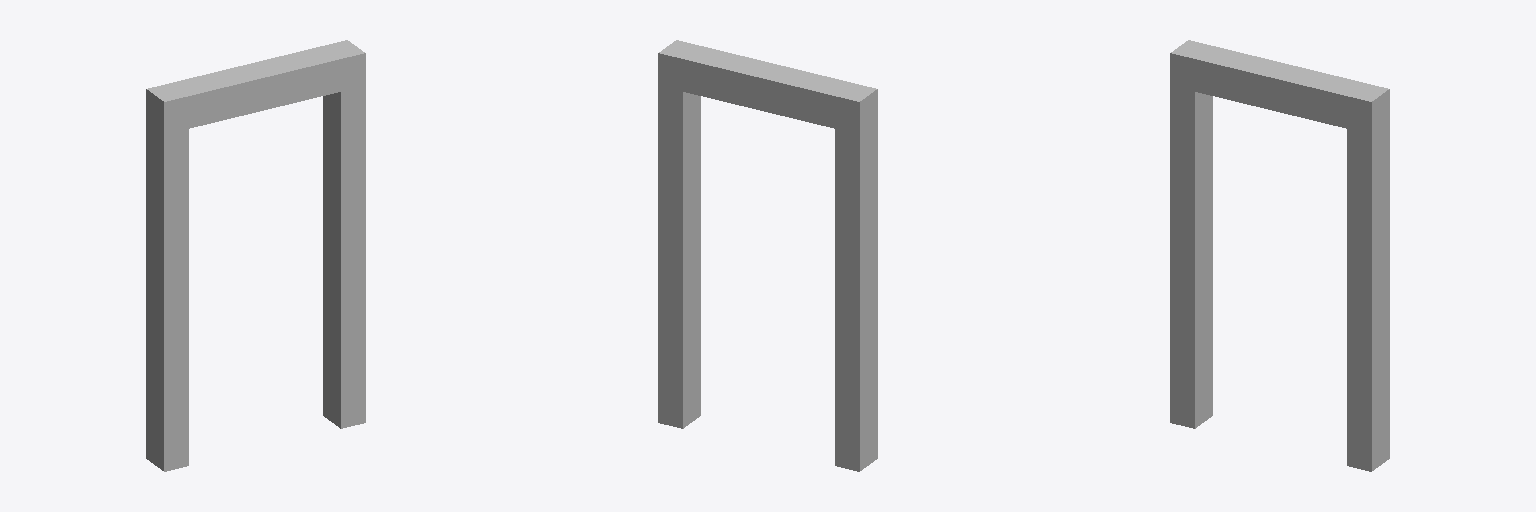
File: boarder.obj
3 renders of one model, left to right at view 1: azimuth 30°, elevation 25°; view 2: azimuth 150°, elevation 25°; view 3: azimuth 330°, elevation 25°, orthographic.
Parts seen in each view (by area): view 1: Cube; view 2: Cube; view 3: Cube.
Part boxes in pixels (bbox=[...]): Cube: bbox=[146, 40, 365, 471]; Cube: bbox=[658, 40, 877, 471]; Cube: bbox=[1170, 40, 1389, 471].
Size of the model in its own units: 12.89 by 22.66 by 2.